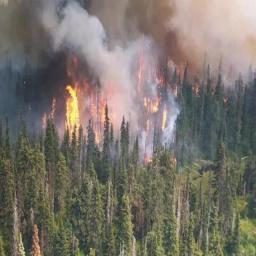Heavy smoke: (0, 0, 256, 146)
Medium fire: (30, 47, 256, 136)
